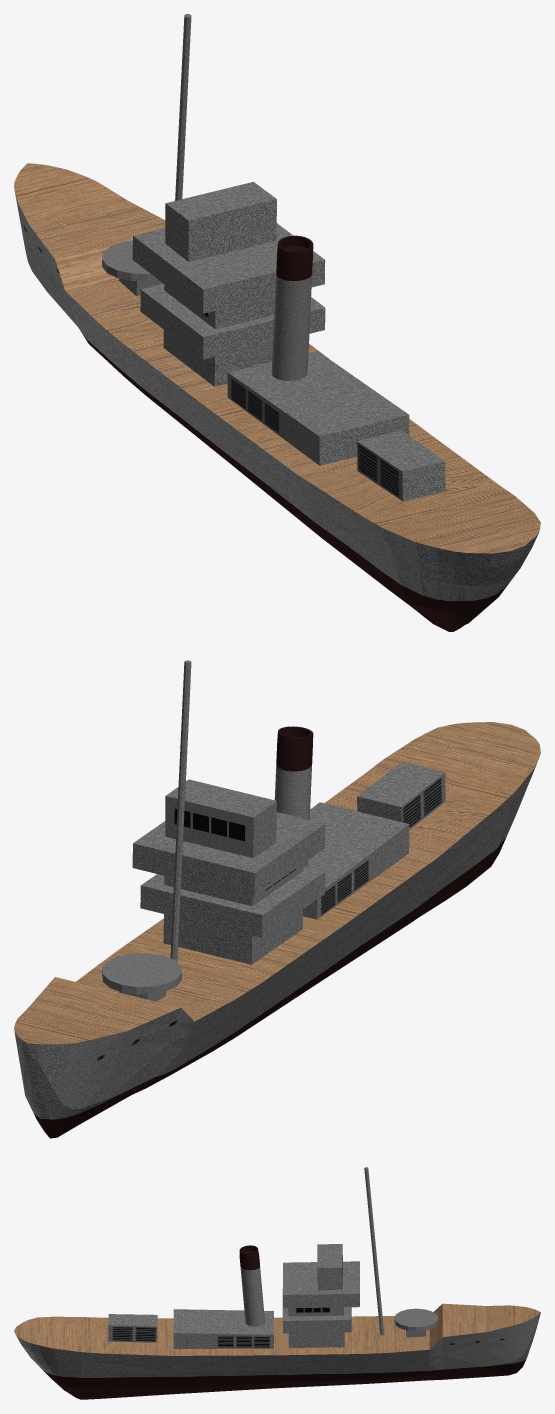
File: armedtrawler.obj
3 views of the same model, one above another, from view 1: azimuth 30°, elevation 25°; view 2: azimuth 150°, elevation 25°; view 3: azimuth 270°, elevation 25° (orthographic). The views are drawn at different scales.
Parts seen in each view (by area): view 1: Cube.003_Cube.004; view 2: Cube.003_Cube.004; view 3: Cube.003_Cube.004.
Part boxes in pixels (bbox=[...]): Cube.003_Cube.004: bbox=[14, 14, 540, 631]; Cube.003_Cube.004: bbox=[14, 660, 540, 1138]; Cube.003_Cube.004: bbox=[14, 1167, 540, 1399].
Size of the model in its own units: 8.43 by 24.28 by 49.97.
